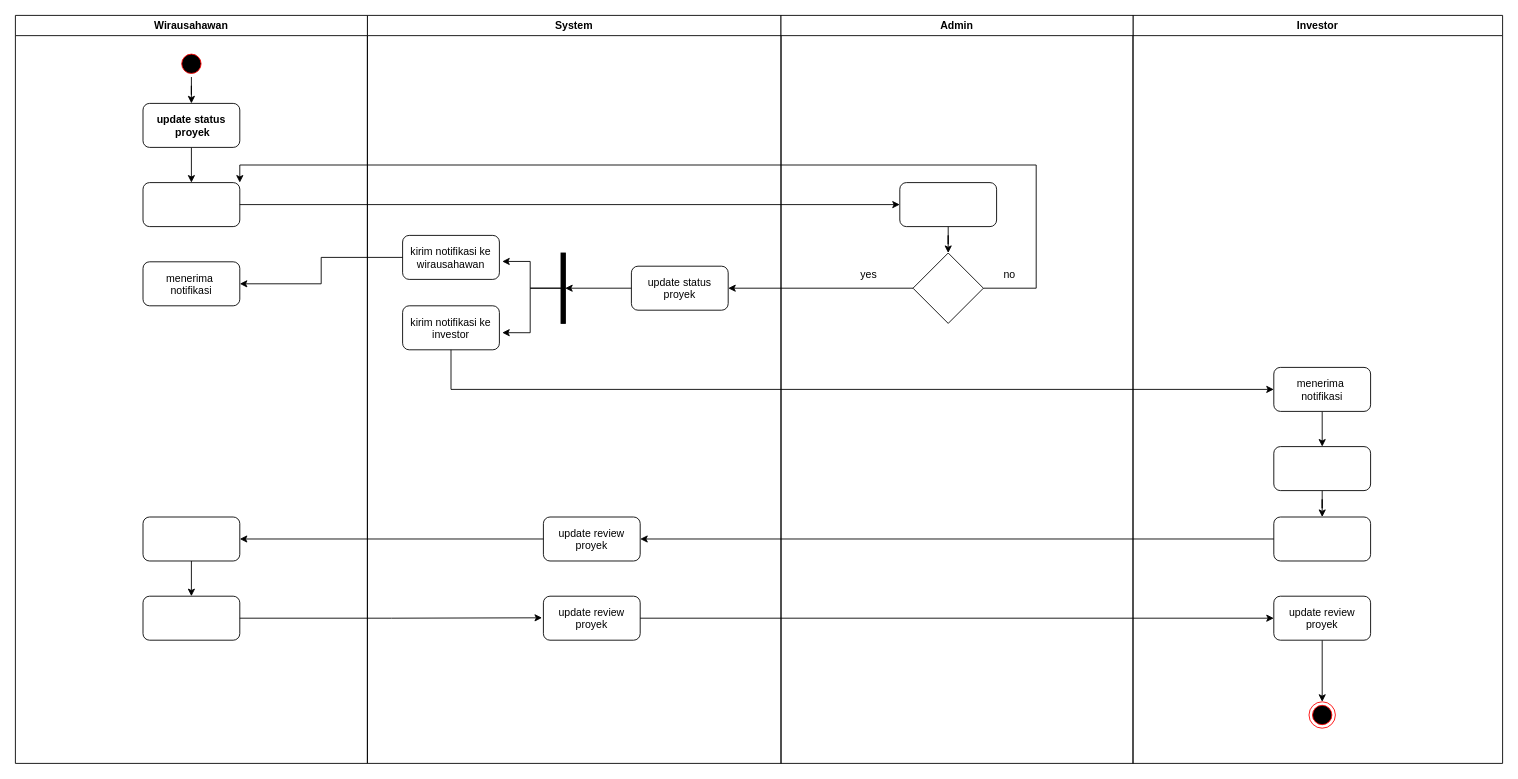
This 1518x779 diagram has some shape labels left out. The centre of each missing label's shape, as x and y in pixels:
"data valid?" goes at point (947, 287).
"masukan data update" goes at point (191, 204).
"melihat status proyek" goes at point (1322, 468).
"membalas review proyek" goes at point (191, 617).
"menerima notifikasi review proyek" goes at point (191, 538).
"menulis review proyek" goes at point (1322, 538).
"valifasi data manual" goes at point (948, 204).
